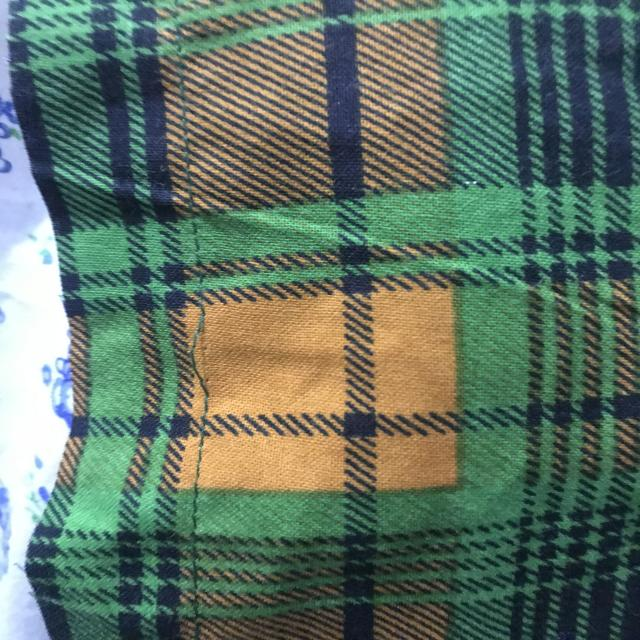good: (186, 446, 206, 538)
skip: (184, 306, 223, 412)
